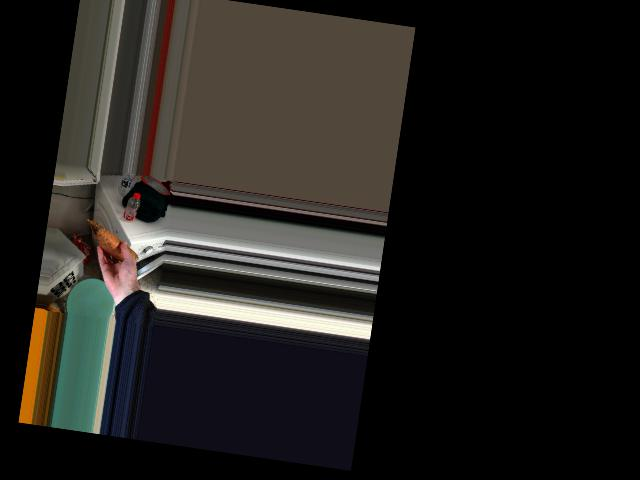sweet_potato: (96, 230, 135, 260)
